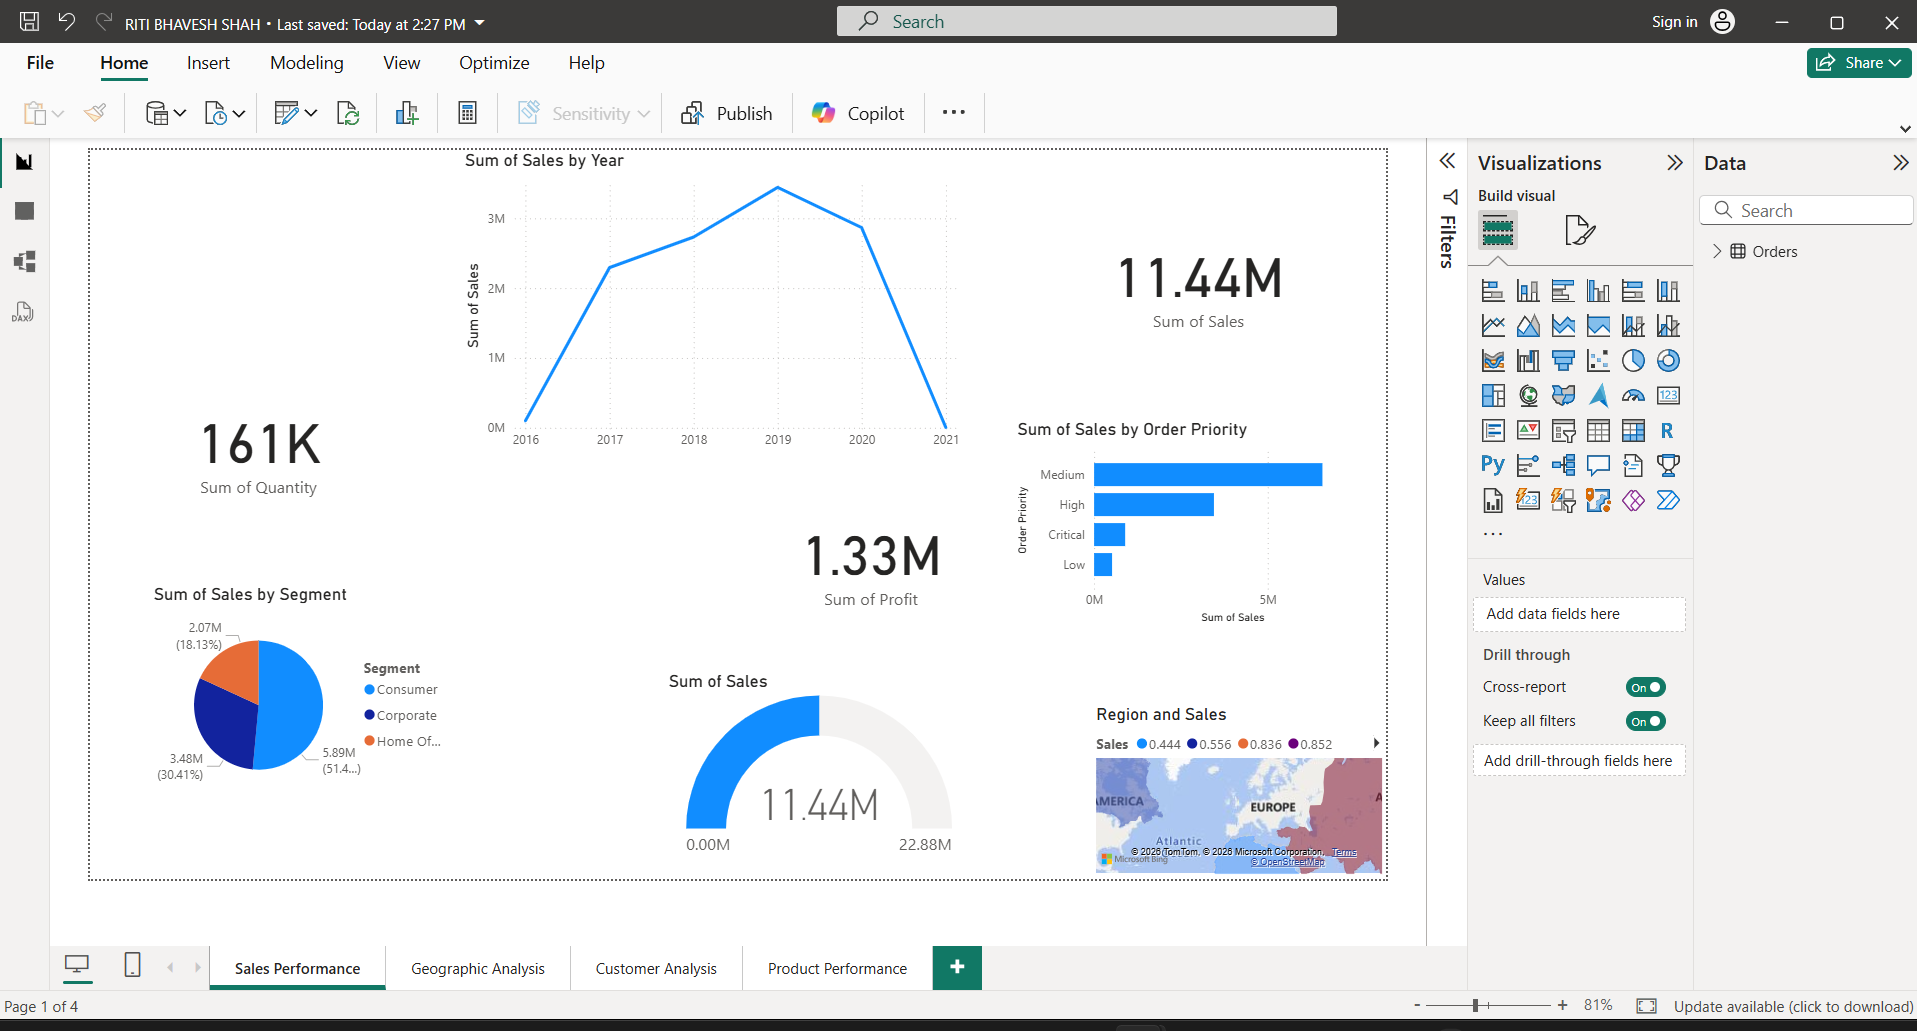

The dashboard page shown, as its layout file describes it:
{"tool":"powerbi","page":{"name":"Sales Performance","canvas":[1280,720],"ordinal":0},"visuals":[{"type":"filledMap","fields":{"Category":["Orders.Region"],"Series":["Orders.Sales"]},"box":[988.4,546.9,292,172.7],"z":0},{"type":"lineChart","fields":{"Category":["Orders.Order Date_.Variation.Date Hierarchy.Year","Orders.Order Date_.Variation.Date Hierarchy.Quarter","Orders.Order Date_.Variation.Date Hierarchy.Month","Orders.Order Date_.Variation.Date Hierarchy.Day"],"Y":["Sum(Orders.Sales)"]},"box":[365,0,498.1,318.4],"z":1000},{"type":"card","fields":{"Values":["Sum(Orders.Sales)"]},"box":[941.3,20.6,308.7,218.2],"z":2000},{"type":"card","fields":{"Values":["Sum(Orders.Profit)"]},"box":[617.5,293.7,308.7,220.9],"z":3000},{"type":"card","fields":{"Values":["Sum(Orders.Quantity)"]},"box":[12.3,183.9,308.7,219.6],"z":4000},{"type":"pieChart","fields":{"Category":["Orders.Segment"],"Y":["Sum(Orders.Sales)"]},"box":[57.6,428.1,307.4,220.9],"z":5000},{"type":"barChart","fields":{"Y":["Sum(Orders.Sales)"],"Category":["Orders.Order Priority"]},"box":[911.2,264.8,369.1,207.2],"z":6000},{"type":"gauge","fields":{"Y":["Sum(Orders.Sales)"]},"box":[566.7,514.6,307.4,192.1],"z":7000}]}

Visuals, with their boxes on the page's 1280x720 design canvas (x1, y1, x2, y2). These are canvas units, not pixel positions in the 1917x1031 screenshot, which may show the page scaled, cropped or inside an application window:
filledMap - Orders.Region x Orders.Sales: <bbox>988, 547, 1280, 720</bbox>
lineChart - Orders.Order Date_.Variation.Date Hierarchy.Year x Orders.Order Date_.Variation.Date Hierarchy.Quarter: <bbox>365, 0, 863, 318</bbox>
card - Sum(Orders.Sales): <bbox>941, 21, 1250, 239</bbox>
card - Sum(Orders.Profit): <bbox>618, 294, 926, 515</bbox>
card - Sum(Orders.Quantity): <bbox>12, 184, 321, 404</bbox>
pieChart - Orders.Segment x Sum(Orders.Sales): <bbox>58, 428, 365, 649</bbox>
barChart - Sum(Orders.Sales) x Orders.Order Priority: <bbox>911, 265, 1280, 472</bbox>
gauge - Sum(Orders.Sales): <bbox>567, 515, 874, 707</bbox>
